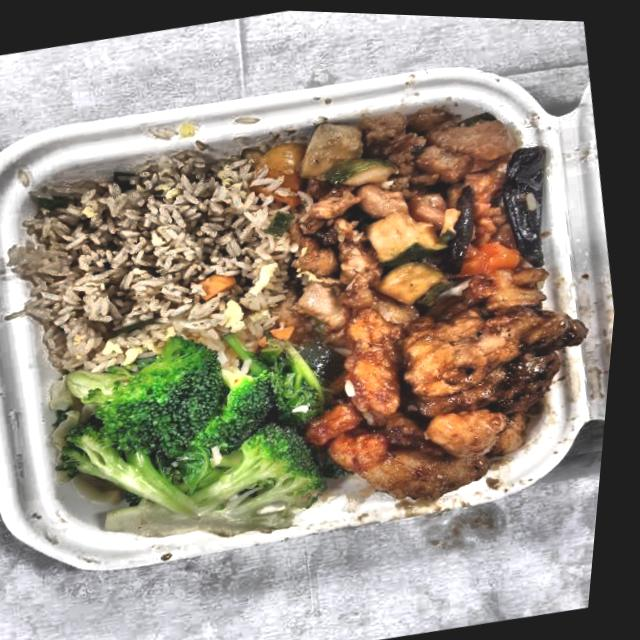Food: (273, 247, 623, 532), (250, 70, 589, 358), (22, 299, 370, 574), (0, 121, 336, 398)
